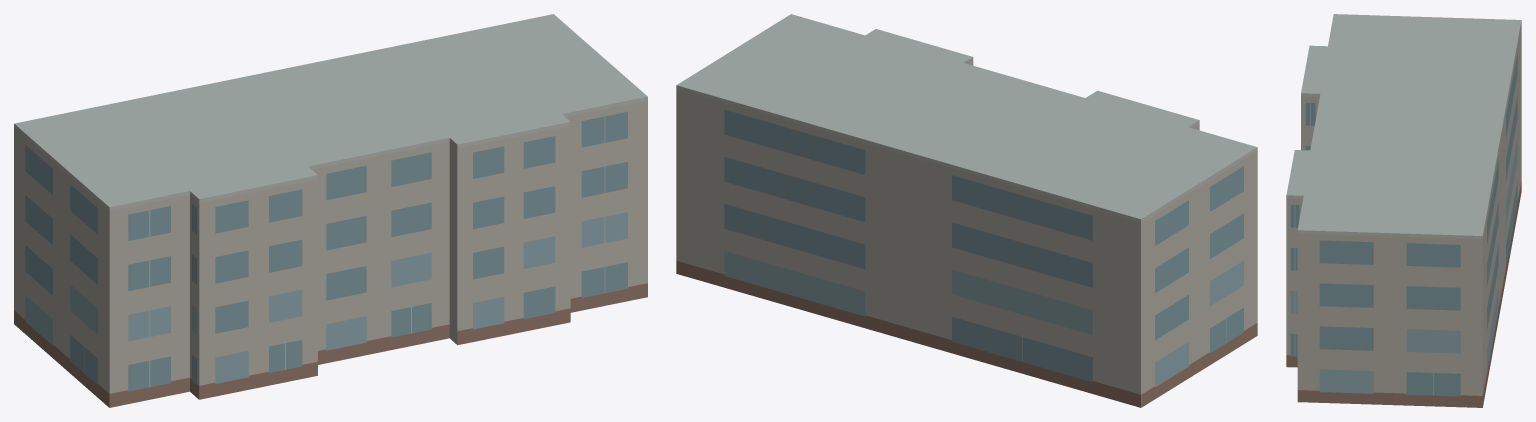
Rendered from survey-upis-32829749.glb.
The picture shows the model from 3 angles, left to right: view 1: azimuth 30°, elevation 25°; view 2: azimuth 150°, elevation 25°; view 3: azimuth 270°, elevation 25°; orthographic projection. The views are drawn at different scales.
Parts seen in each view (by area): view 1: survey-upis-32829749.tmp; view 2: survey-upis-32829749.tmp; view 3: survey-upis-32829749.tmp.
Boxes of the visible parts, x1,y1,x2,y2 form: survey-upis-32829749.tmp: (14,14,647,407); survey-upis-32829749.tmp: (676,14,1257,407); survey-upis-32829749.tmp: (1286,14,1521,407).
Bounding box in the file's own units: 33.82 × 12.2 × 15.14.
